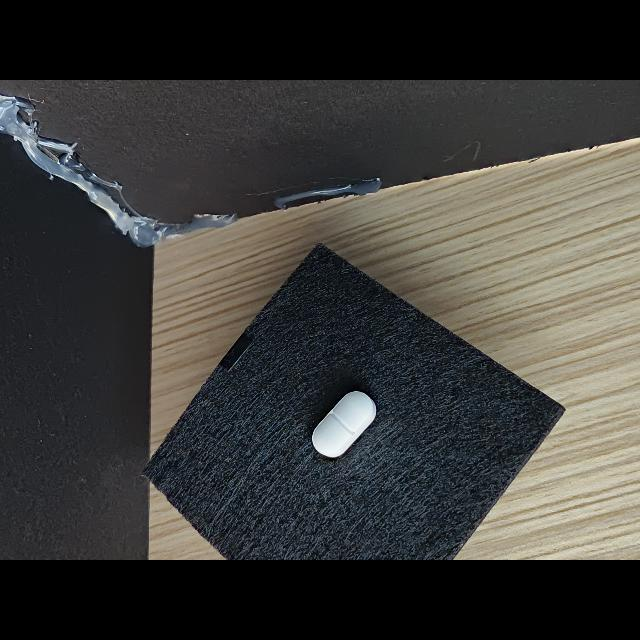Intact Pill: (312, 391, 376, 457)
